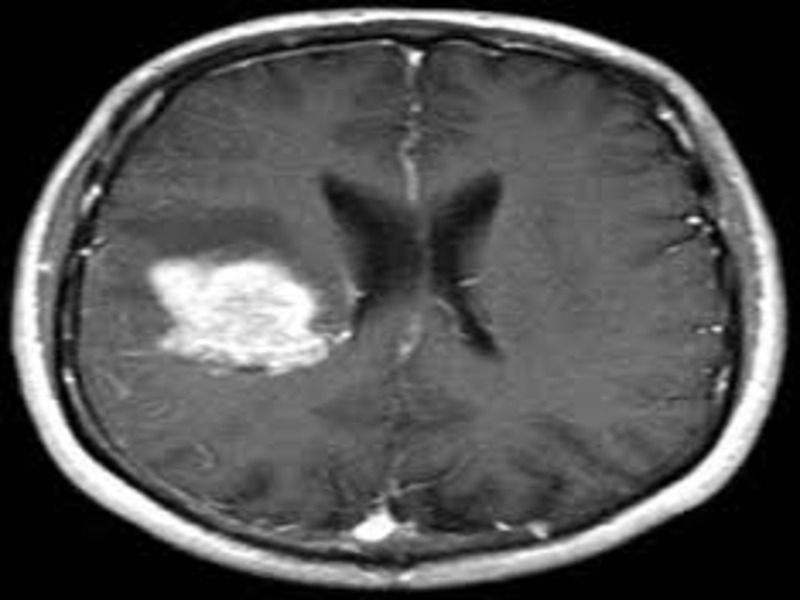tumor: (142, 248, 353, 383)
